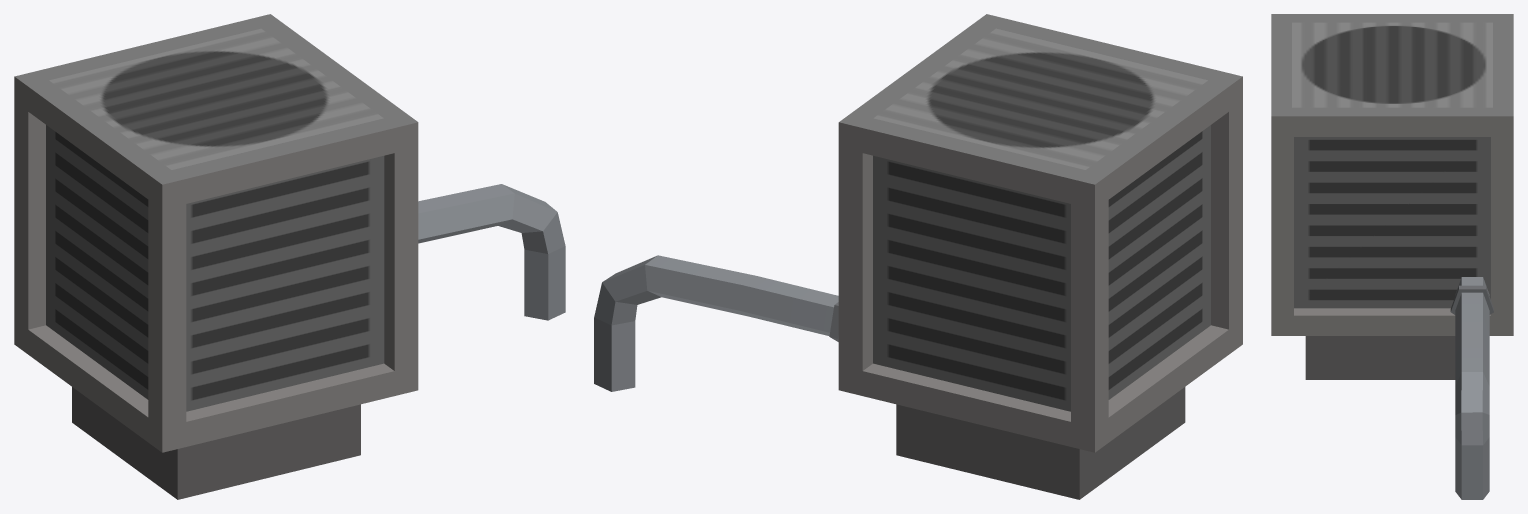
File: SM_Prop_Roof_Aircon_01.fbx
3 views of the same model, side by side, from view 1: azimuth 30°, elevation 25°; view 2: azimuth 150°, elevation 25°; view 3: azimuth 270°, elevation 25° (orthographic). The views are drawn at different scales.
Visible parts, largest first — view 1: SM_Prop_Roof_Aircon_01; view 2: SM_Prop_Roof_Aircon_01; view 3: SM_Prop_Roof_Aircon_01.
Part boxes in pixels (box(x1,y1,x2,y2)): SM_Prop_Roof_Aircon_01: box(14, 14, 565, 499); SM_Prop_Roof_Aircon_01: box(594, 14, 1242, 499); SM_Prop_Roof_Aircon_01: box(1271, 14, 1513, 499).
Bounding box in the file's own units: 94.8 × 59.21 × 46.75.
